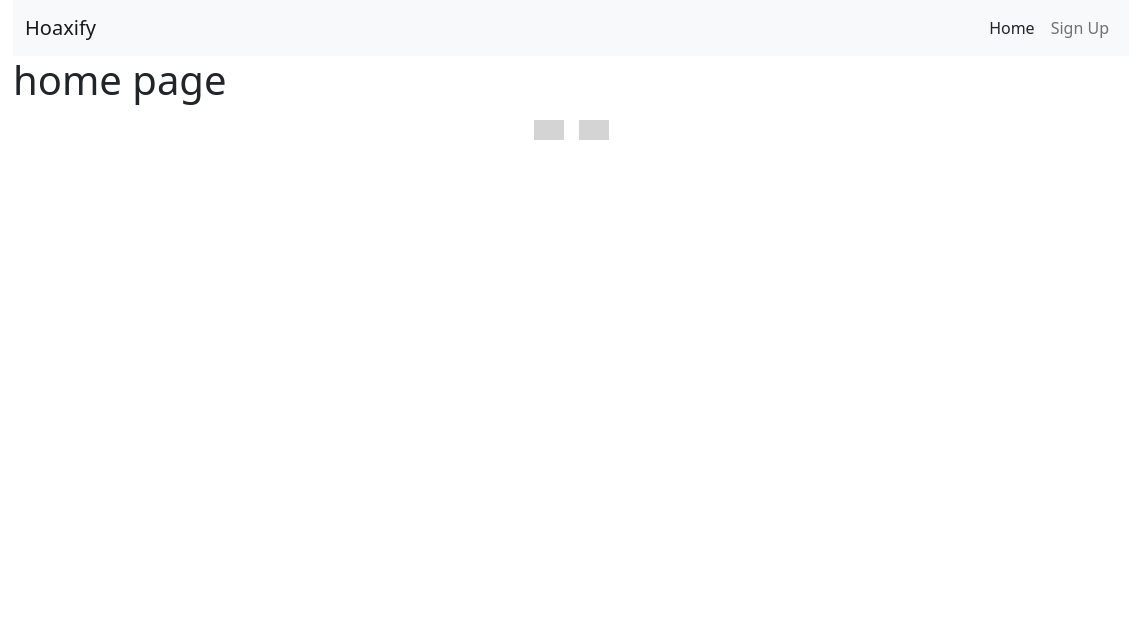
Routing › displays sign up page after clicking sign up link
Click the link "Sign Up": x=1080, y=28 [1051,17,1109,39]
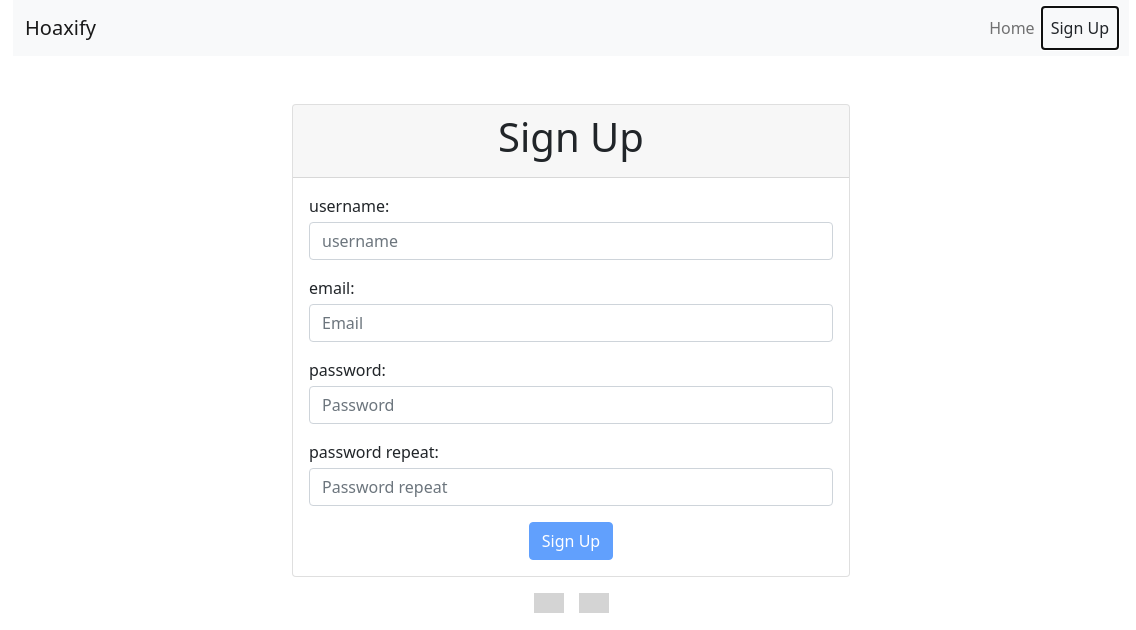
Check: the element with test id "signup-page" is shown, box [292,104,850,577]
